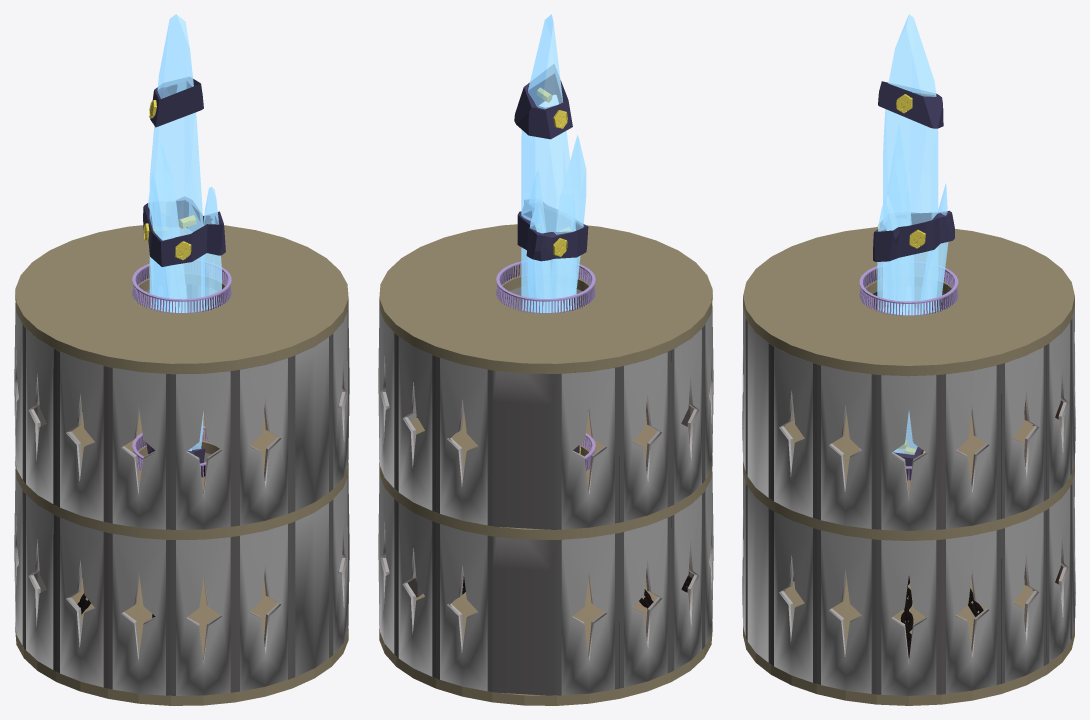
Rendered from Tower_Generic_Bot.fbx.
The picture shows the model from 3 angles, left to right: view 1: azimuth 30°, elevation 25°; view 2: azimuth 150°, elevation 25°; view 3: azimuth 270°, elevation 25°; orthographic projection.
Visible parts, largest first — view 1: walls.001, walls, floorwithhole.002, crystal, floor.001, crystalloops, floorwithhole.001, rail.001; view 2: walls.001, walls, floorwithhole.002, crystal, crystalloops, floor.001, floorwithhole.001, rail.001; view 3: walls.001, walls, floorwithhole.002, crystal, floor.001, floorwithhole.001, crystalloops, rail.001.
Part boxes in pixels (x1,y1,x2,y2): walls.001: [14, 284, 349, 529]; walls: [14, 452, 349, 695]; floorwithhole.002: [15, 225, 348, 373]; crystal: [148, 14, 221, 451]; floor.001: [15, 576, 348, 705]; crystalloops: [143, 77, 225, 477]; floorwithhole.001: [15, 410, 348, 539]; rail.001: [132, 260, 231, 314]; walls.001: [378, 286, 713, 529]; walls: [378, 471, 713, 695]; floorwithhole.002: [379, 224, 712, 373]; crystal: [521, 14, 586, 312]; crystalloops: [514, 64, 588, 453]; floor.001: [379, 578, 712, 705]; floorwithhole.001: [379, 410, 712, 539]; rail.001: [496, 260, 595, 314]; walls.001: [742, 287, 1075, 530]; walls: [742, 452, 1075, 695]; floorwithhole.002: [743, 227, 1074, 375]; crystal: [877, 14, 948, 454]; floor.001: [743, 577, 1074, 705]; floorwithhole.001: [743, 412, 1074, 540]; crystalloops: [873, 81, 954, 480]; rail.001: [859, 262, 958, 316].
Size of the model in its own units: 9049 by 18524 by 9049.
